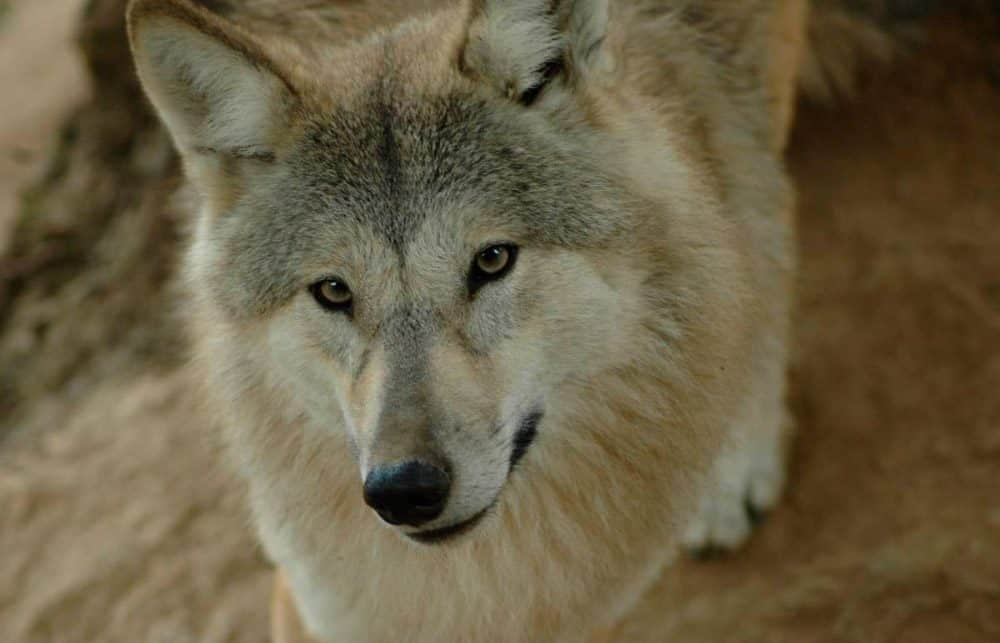Lobo: (98, 14, 807, 626)
